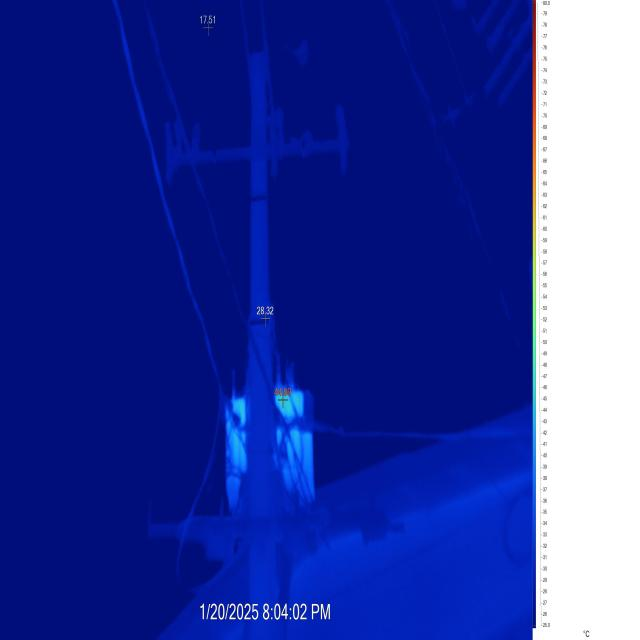Transformer: (104, 0, 537, 622)
